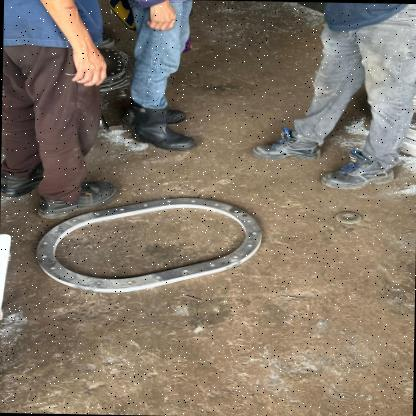bota: (312, 150, 396, 196), (36, 174, 124, 216), (130, 103, 196, 154), (248, 127, 320, 165), (2, 163, 36, 197)
